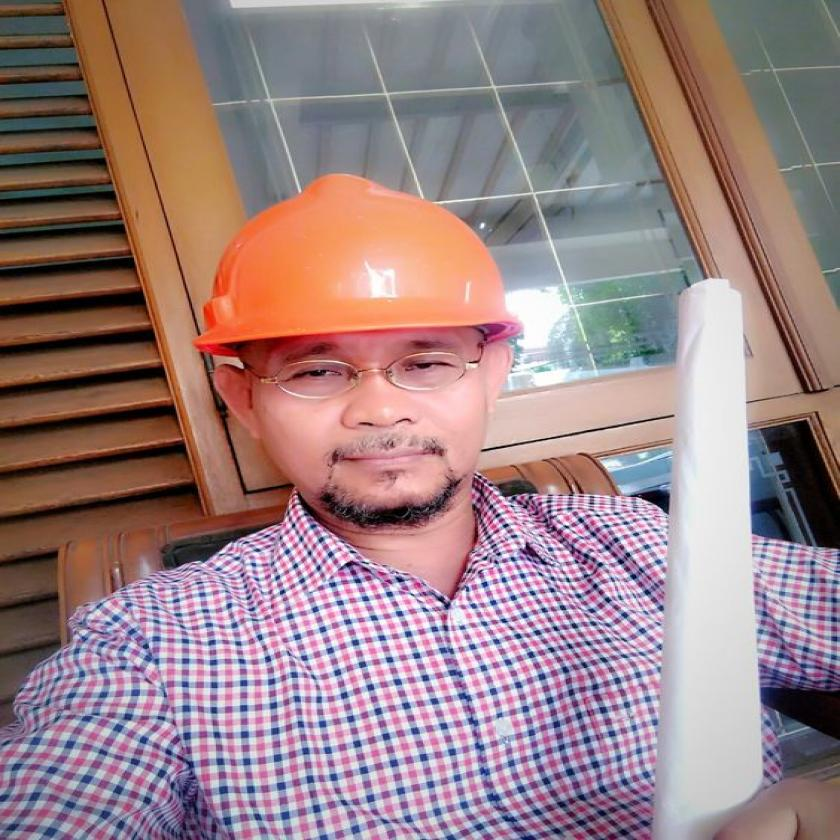Con_casco: (187, 172, 530, 548)
